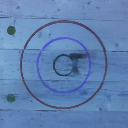Axe Tip: (78, 54, 86, 58)
